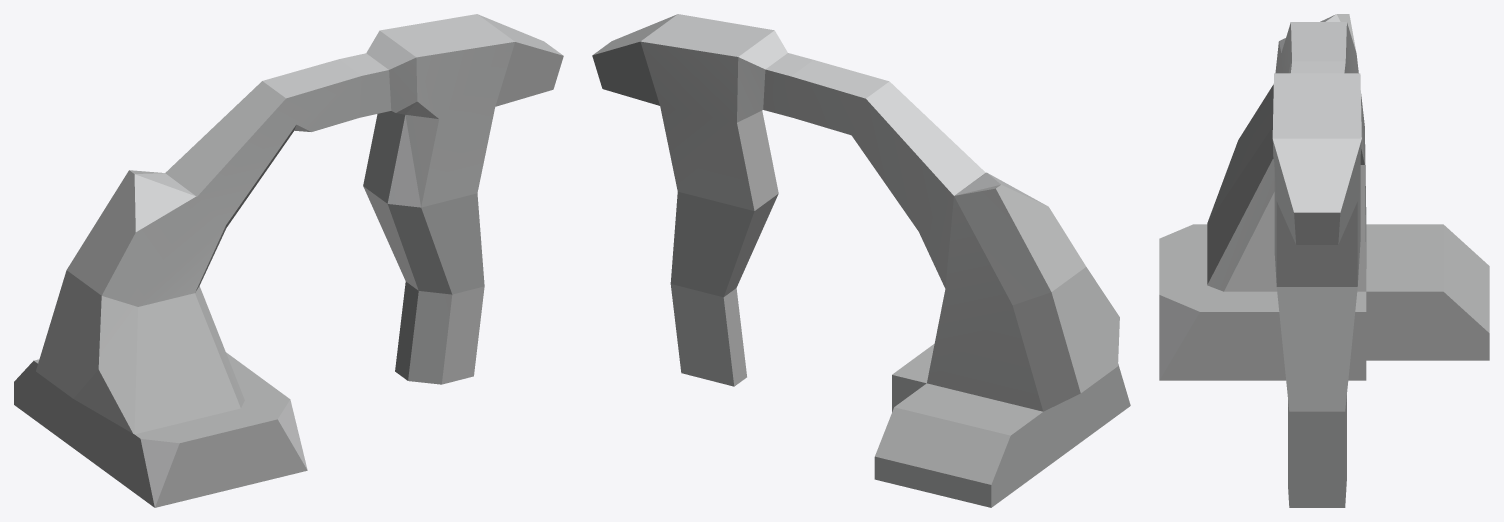
The model's file is stone_3.fbx.
3 views of the same model, side by side, from view 1: azimuth 30°, elevation 25°; view 2: azimuth 150°, elevation 25°; view 3: azimuth 270°, elevation 25° (orthographic). The views are drawn at different scales.
Visible parts, largest first — view 1: stone_3; view 2: stone_3; view 3: stone_3.
Boxes of the visible parts, left/top/right/bottom form: stone_3: left=14, top=14, right=563, bottom=507; stone_3: left=592, top=14, right=1130, bottom=507; stone_3: left=1159, top=14, right=1489, bottom=507.
Bounding box in the file's own units: 614 × 397 × 299.
